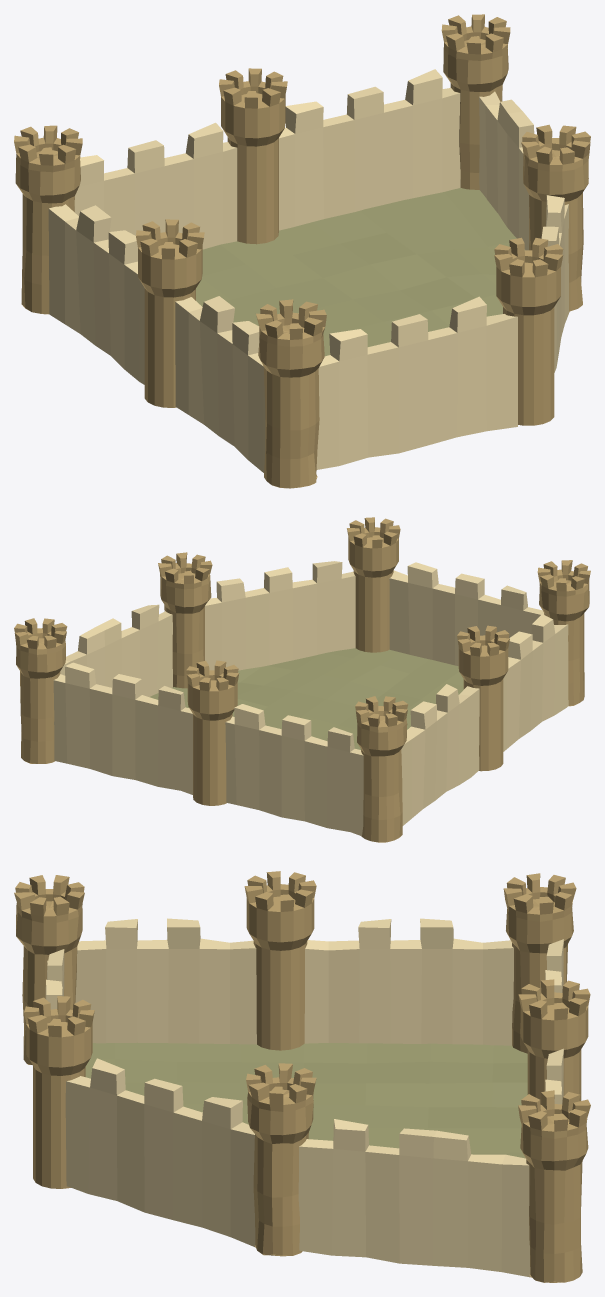
The model's file is castle.fbx.
3 views of the same model, one above another, from view 1: azimuth 30°, elevation 25°; view 2: azimuth 150°, elevation 25°; view 3: azimuth 270°, elevation 25° (orthographic). The views are drawn at different scales.
Parts seen in each view (by area): view 1: castle_3, castle_2, castle_1; view 2: castle_3, castle_2, castle_1; view 3: castle_3, castle_2, castle_1.
Boxes of the visible parts, <box> form: castle_3: <box>48,69,569,472</box>; castle_2: <box>14,14,590,488</box>; castle_1: <box>196,188,524,356</box>; castle_3: <box>53,561,568,836</box>; castle_2: <box>14,517,590,842</box>; castle_1: <box>149,648,463,749</box>; castle_3: <box>45,918,563,1277</box>; castle_2: <box>14,871,590,1282</box>; castle_1: <box>85,1042,527,1158</box>.
Bounding box in the file's own units: 2525 × 799 × 2465.
